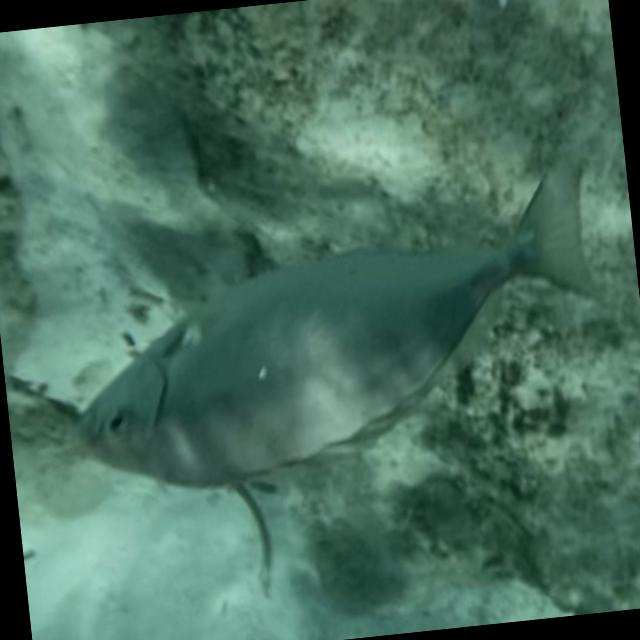Sokar Baligi: (31, 118, 630, 530)
